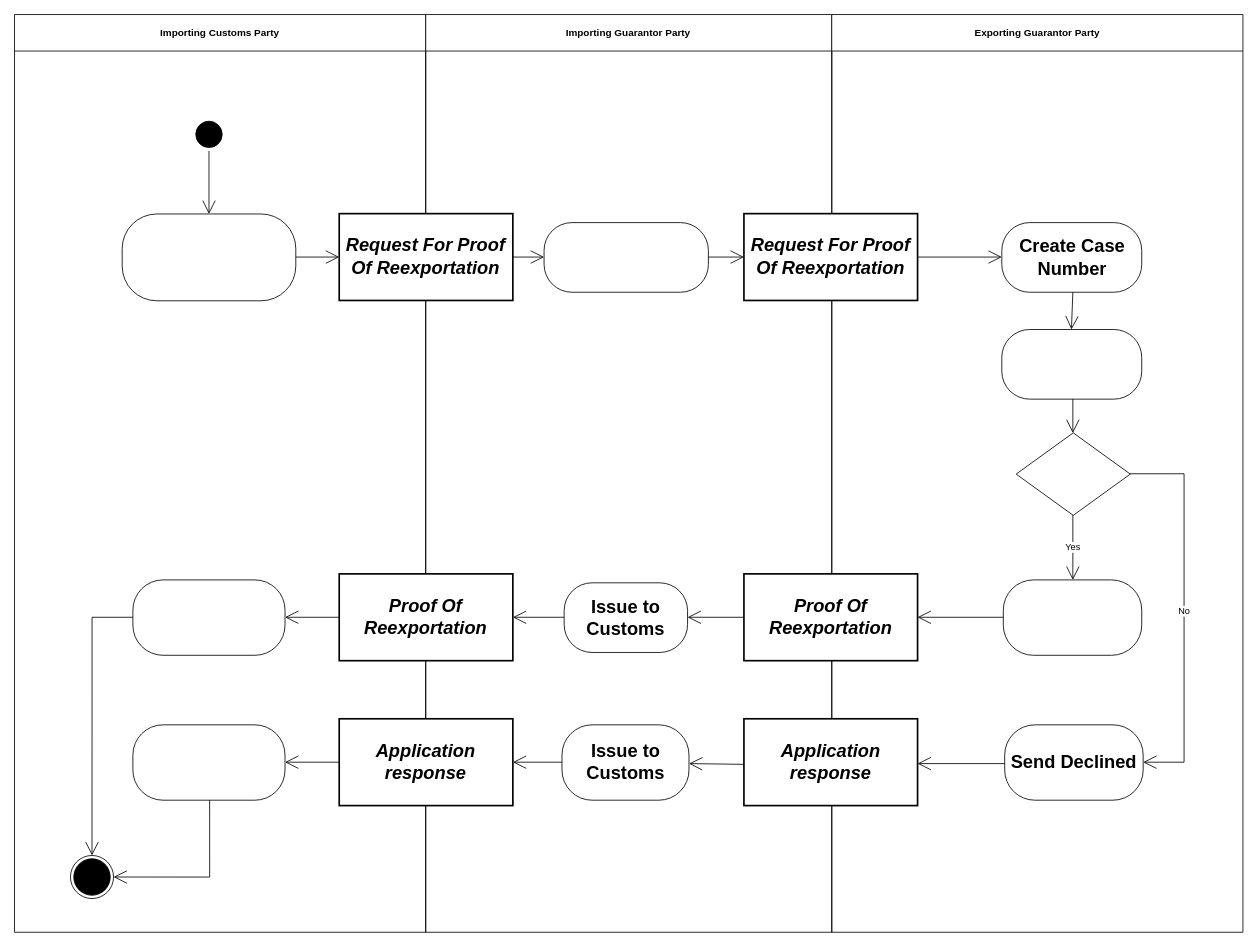
Some shapes in this 1257 by 947 pixel diagram are drawn without their labels. Here are the shapes that lost their labels. From the top down, the centre of each, then its label:
the point at 208,257: Query if goods have left the country
the point at 625,257: Issue to 1 Relevant Chamber of Commerce
the point at 1071,364: Get Status From Goods Item Passport
the point at 1072,473: Item Returned?
the point at 208,617: Receive Proof of Reexportation
the point at 1072,617: Apply Stamps And Signature
the point at 208,762: Receive Declined
